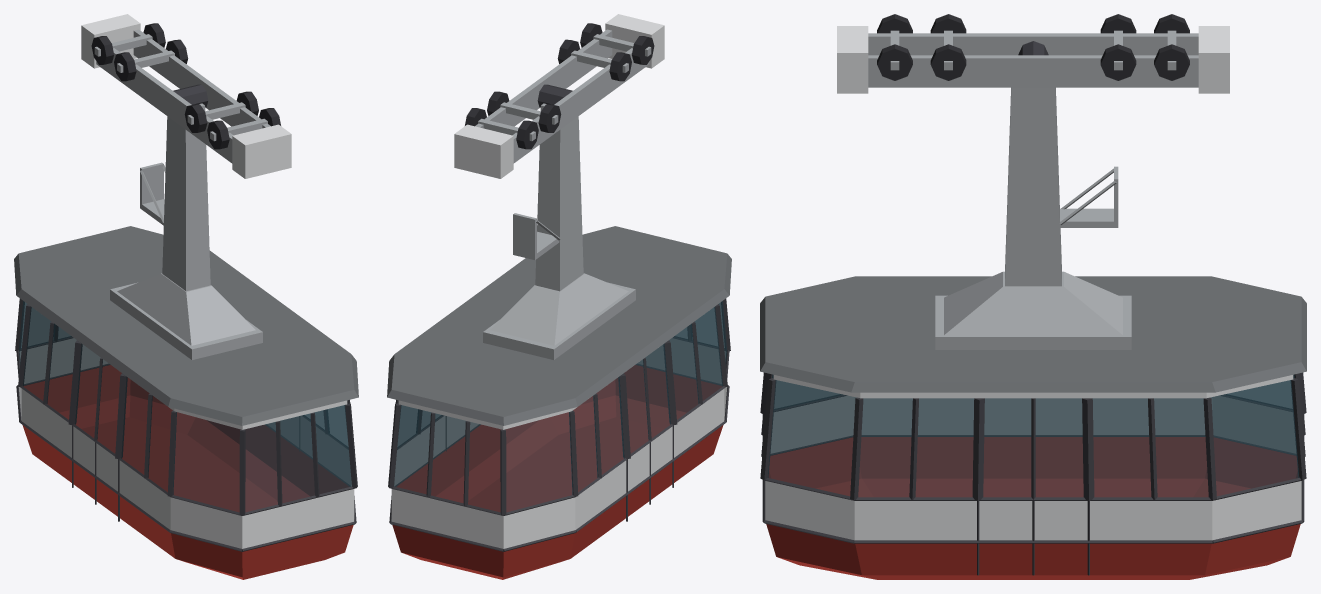
Rendered from ropeway.glb.
3 views of the same model, side by side, from view 1: azimuth 30°, elevation 25°; view 2: azimuth 150°, elevation 25°; view 3: azimuth 270°, elevation 25° (orthographic). The views are drawn at different scales.
Parts seen in each view (by area): view 1: Cabin, Carriage; view 2: Cabin, Carriage; view 3: Cabin, Carriage.
Boxes of the visible parts, box(x1,y1,x2,y2) form: Cabin: box(14, 84, 358, 579); Carriage: box(81, 14, 291, 178); Cabin: box(387, 84, 731, 579); Carriage: box(454, 14, 664, 178); Cabin: box(760, 41, 1306, 579); Carriage: box(837, 14, 1229, 93).
Size of the model in its own units: 2.93 by 6.3 by 6.12.
